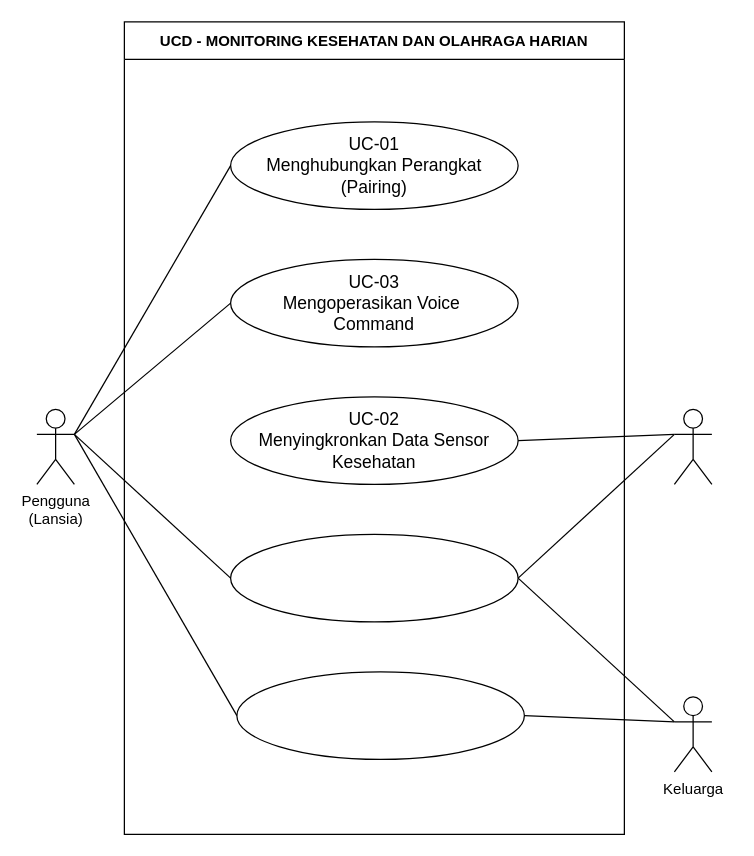
Image size: 754x856. Some labels were removed from this diagram. The centre of each missing label's shape, as x and y in pixels:
Smartwatch: point 692,446
UC-04 Menerima Peringatan Cerdas (Alerts): point 373,577
UC-05 Menghubungkan Ekosistem Family Link: point 380,715
